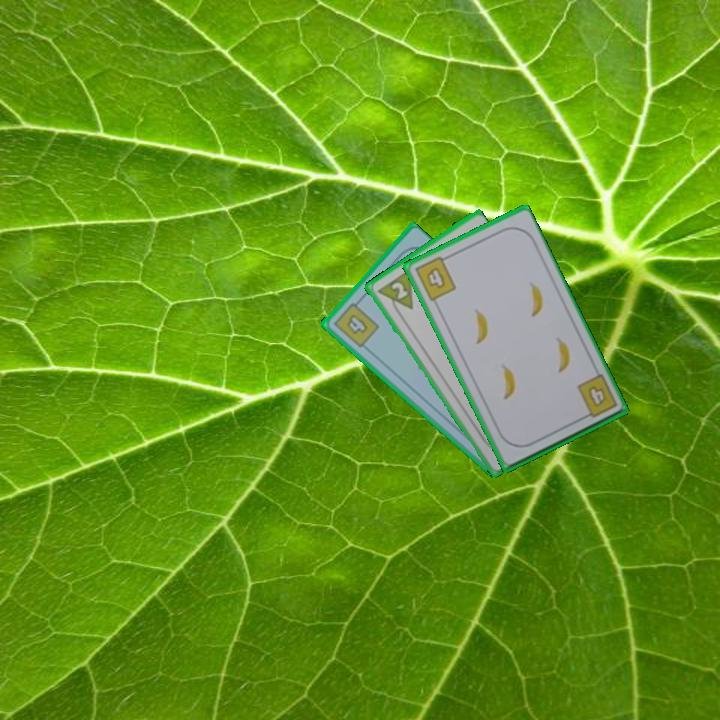2p: (373, 267, 416, 319)
4b: (329, 296, 381, 350), (411, 252, 459, 304), (575, 371, 620, 422)
